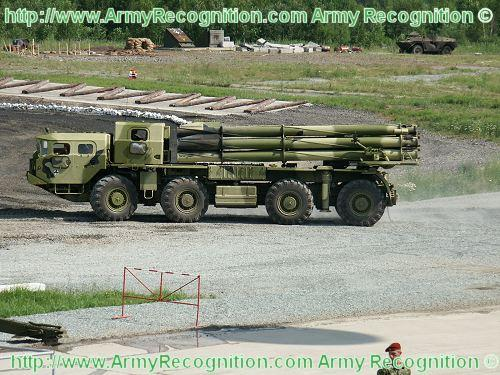MIL_SAM_TEL: (27, 113, 422, 228)
